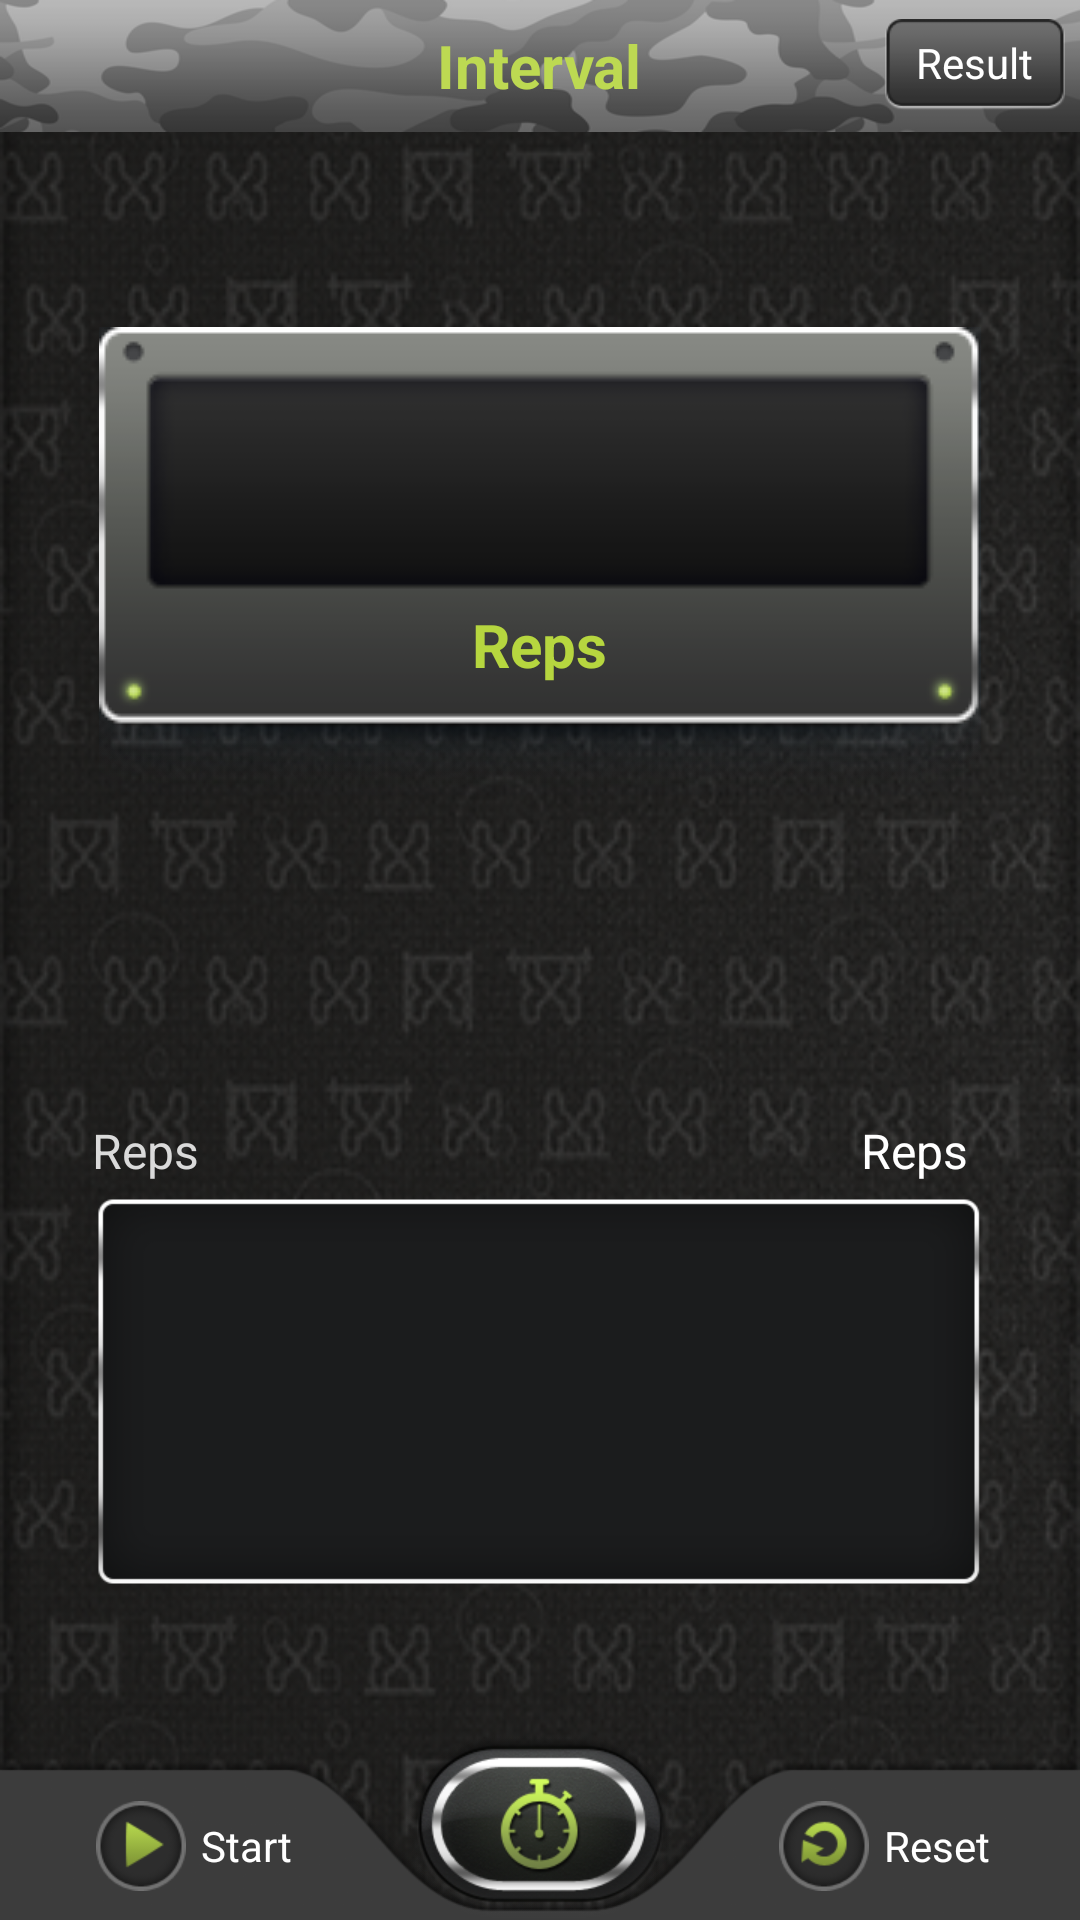

Icon bounding boxes for this 1080 × 1920 phone screenshot, format (x1=x1, y1=y1, x2=x2, y2=y2):
setting interval: (x1=423, y1=1750, x2=658, y2=1892)
